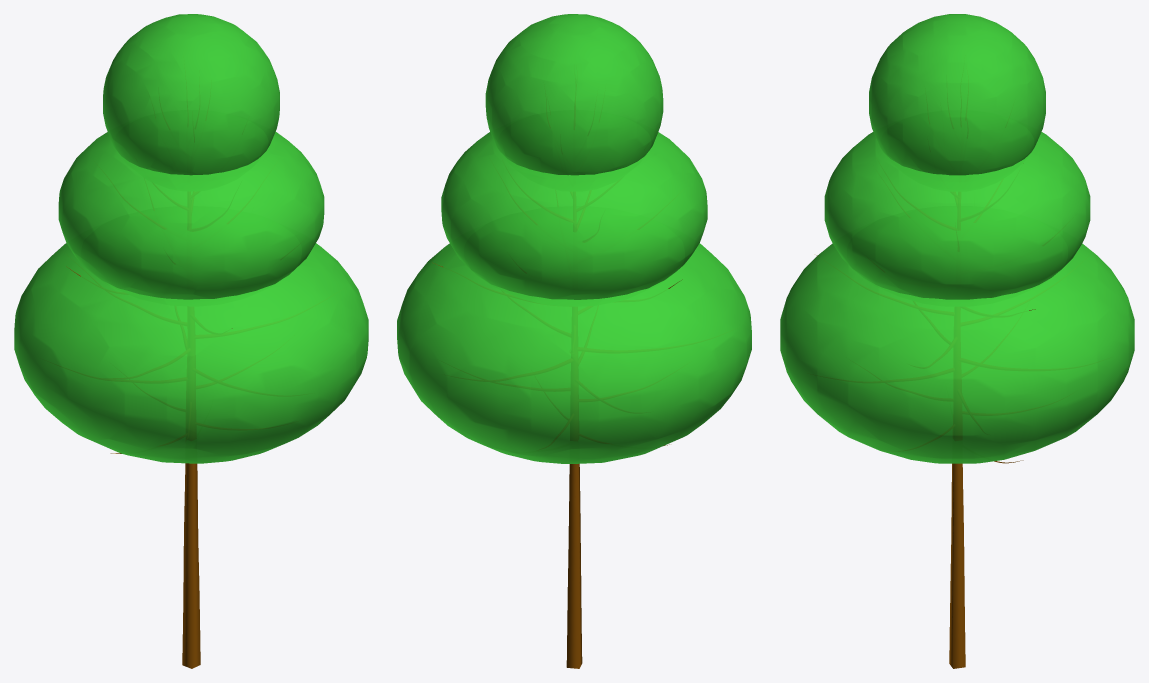
File: Erzatzbaum.fbx
3 views of the same model, side by side, from view 1: azimuth 30°, elevation 25°; view 2: azimuth 150°, elevation 25°; view 3: azimuth 270°, elevation 25° (orthographic).
Parts seen in each view (by area): view 1: Ball002, Ball001, Ball, tree; view 2: Ball002, Ball001, Ball, tree; view 3: Ball002, Ball001, Ball, tree.
Boxes of the visible parts, x1,y1,x2,y2 form: Ball002: (14, 243, 368, 463); Ball001: (58, 132, 324, 299); Ball: (103, 14, 279, 175); tree: (66, 266, 232, 668); Ball002: (397, 243, 751, 463); Ball001: (441, 132, 707, 299); Ball: (485, 14, 663, 175); tree: (432, 262, 682, 668); Ball002: (780, 243, 1134, 463); Ball001: (824, 132, 1090, 299); Ball: (869, 14, 1045, 175); tree: (816, 255, 1035, 668).
Size of the model in its own units: 457 by 914 by 457.
